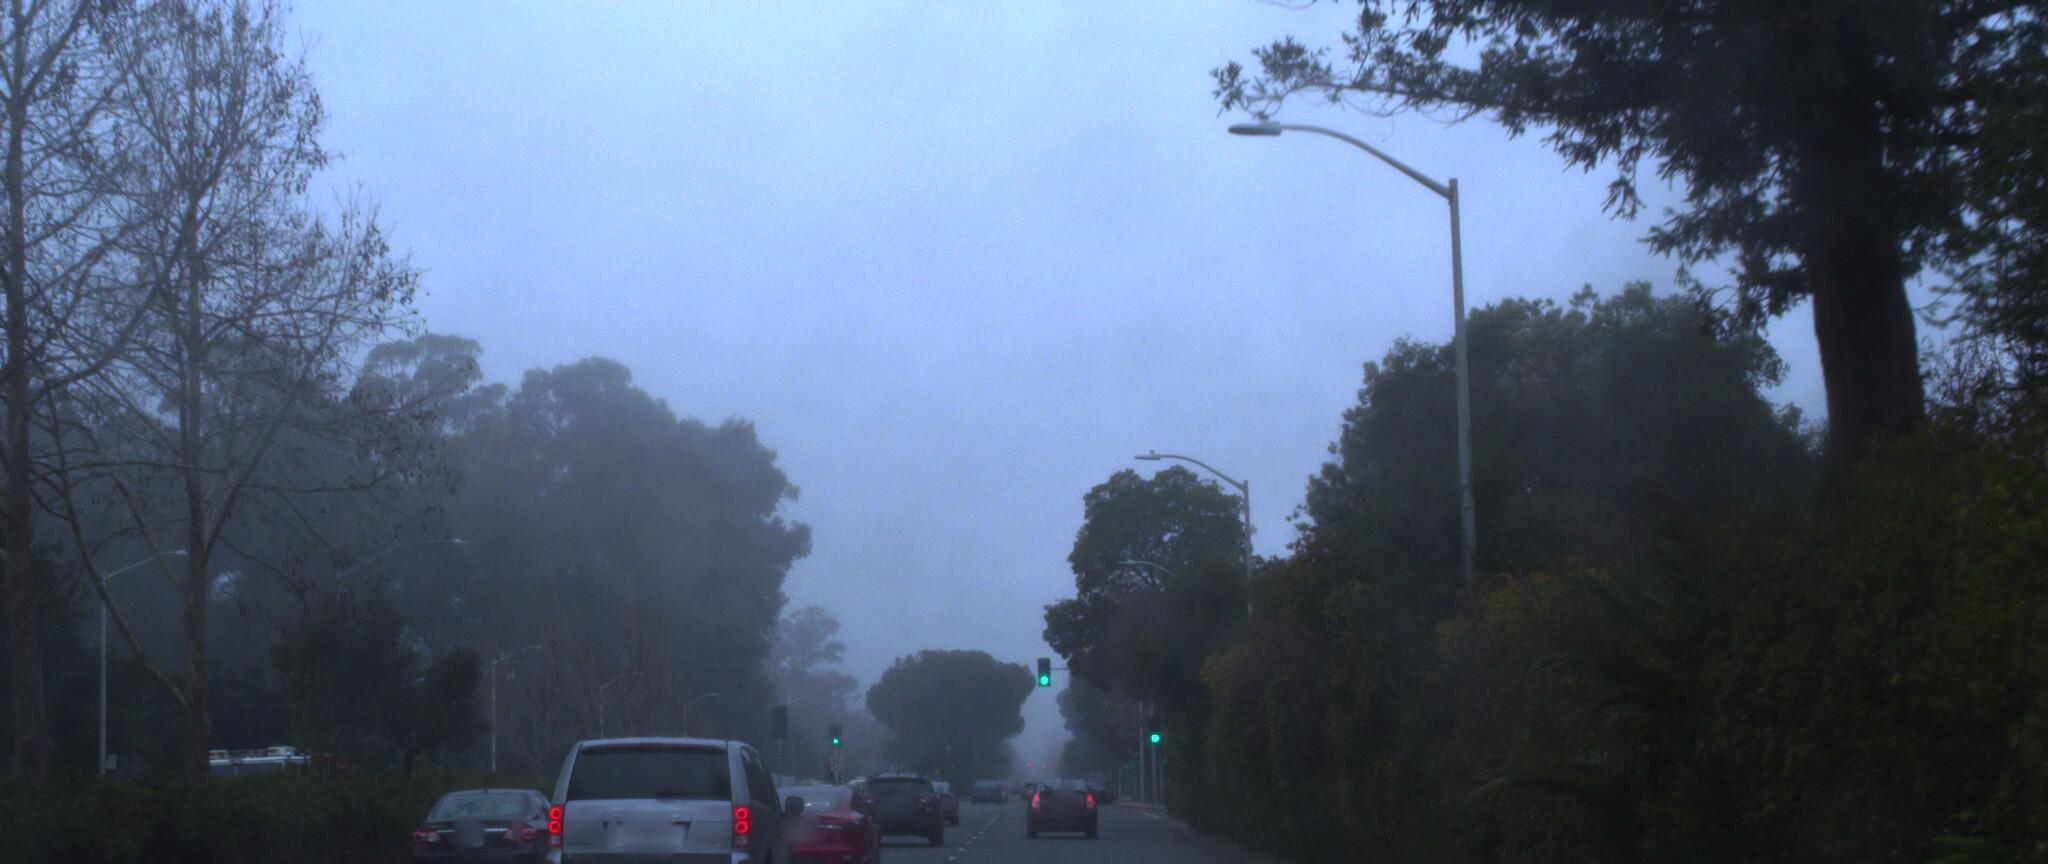car: (507, 723, 805, 864), (396, 777, 590, 864), (738, 767, 892, 864), (859, 756, 951, 835), (1020, 750, 1098, 825)
emergency_vehicle: (197, 737, 383, 844)
